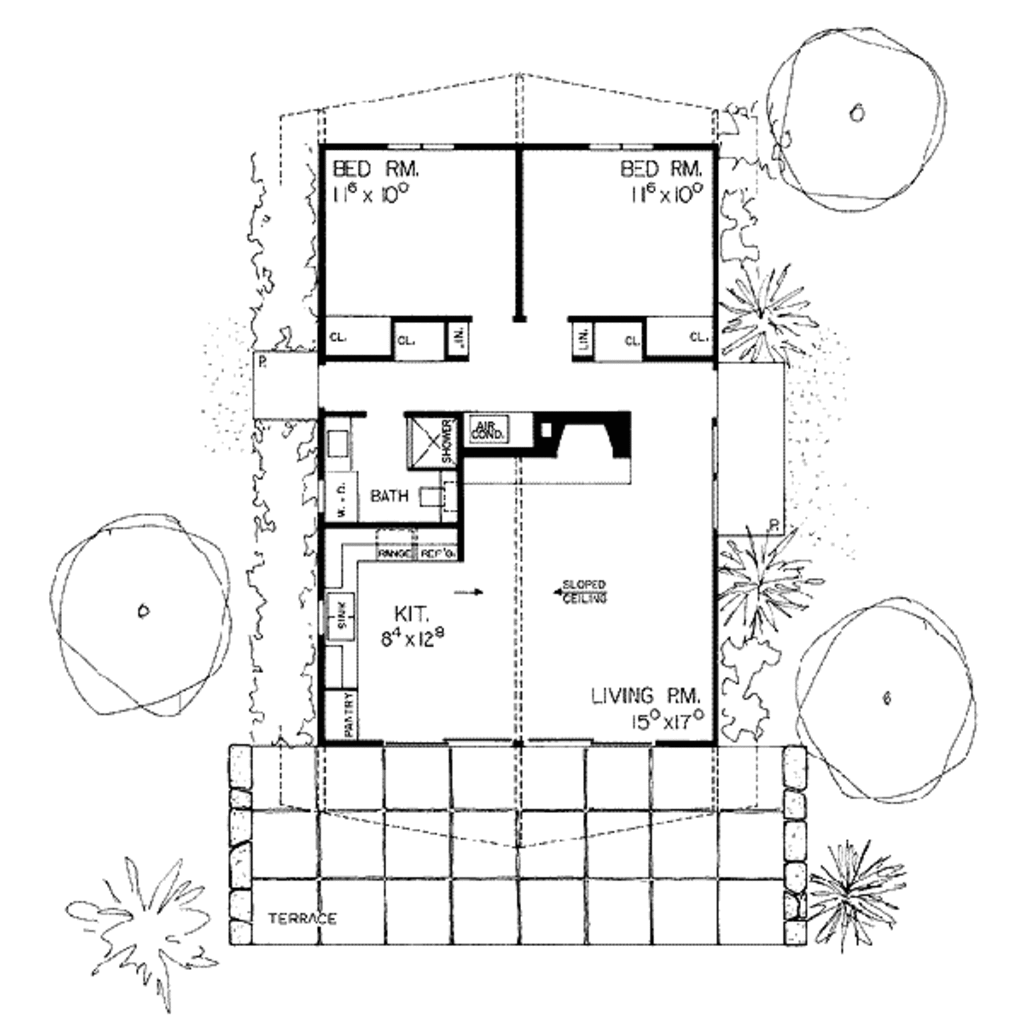large_sink: (405, 473, 459, 519)
sink: (325, 416, 364, 468)
window: (434, 729, 593, 753), (702, 410, 726, 537), (580, 130, 655, 159), (382, 137, 466, 160)
